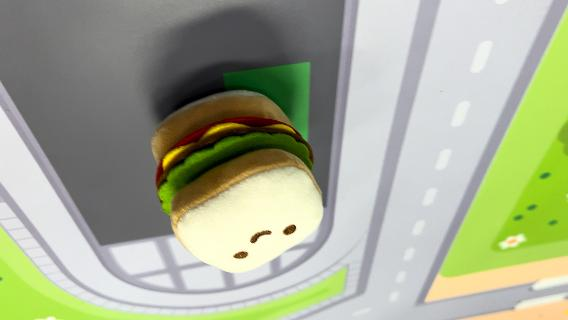sandwich: (149, 86, 327, 274)
